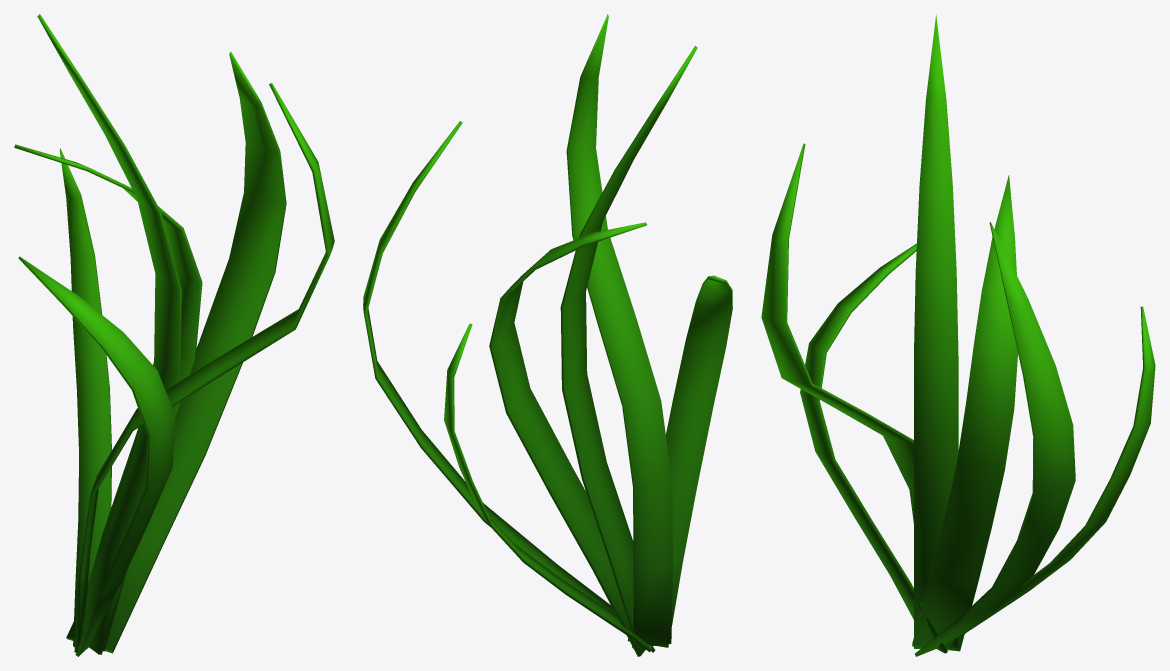
Rendered from hierba_1.fbx.
3 renders of one model, left to right at view 1: azimuth 30°, elevation 25°; view 2: azimuth 150°, elevation 25°; view 3: azimuth 270°, elevation 25°, orthographic. The views are drawn at different scales.
Visible parts, largest first — view 1: Cesped_nuevo_1; view 2: Cesped_nuevo_1; view 3: Cesped_nuevo_1.
Boxes of the visible parts, x1=… form: Cesped_nuevo_1: x1=14, y1=14, x2=334, y2=656; Cesped_nuevo_1: x1=363, y1=14, x2=732, y2=656; Cesped_nuevo_1: x1=761, y1=14, x2=1155, y2=656.
Size of the model in its own units: 28.72 by 55.74 by 32.37.
1 material, 1 textured.
